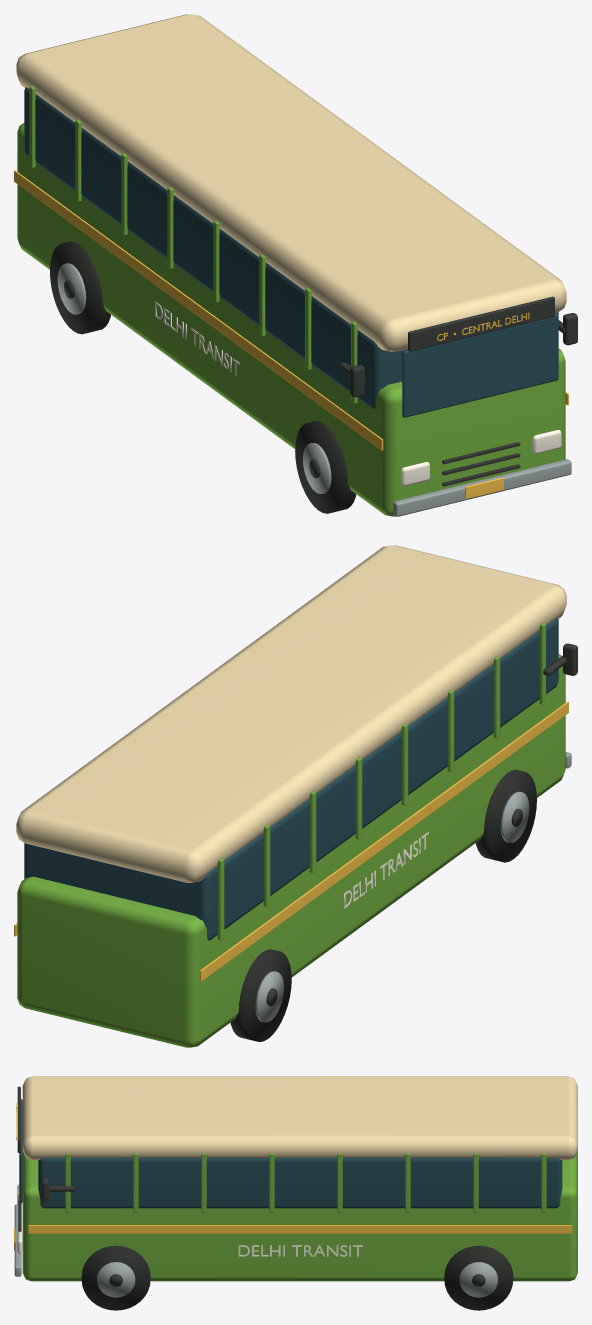
The model's file is delhi-bus.glb.
The picture shows the model from 3 angles, top to bottom: view 1: azimuth 30°, elevation 25°; view 2: azimuth 150°, elevation 25°; view 3: azimuth 270°, elevation 25°; orthographic projection. The views are drawn at different scales.
Parts seen in each view (by area): view 1: delhi-bus / Shop canvas, delhi-bus / DTC leaf green, delhi-bus / Deep indigo glass, delhi-bus / Rubber, delhi-bus / Saffron, delhi-bus / Ink, delhi-bus / Brushed metal, delhi-bus / Chalk edges; view 2: delhi-bus / Shop canvas, delhi-bus / DTC leaf green, delhi-bus / Deep indigo glass, delhi-bus / Rubber, delhi-bus / Saffron, delhi-bus / Brushed metal, delhi-bus / Ink, delhi-bus / Chalk edges; view 3: delhi-bus / Shop canvas, delhi-bus / DTC leaf green, delhi-bus / Deep indigo glass, delhi-bus / Rubber, delhi-bus / Saffron, delhi-bus / Brushed metal, delhi-bus / Ink, delhi-bus / Chalk edges.
Boxes of the visible parts, x1,y1,x2,y2 form: delhi-bus / Shop canvas: (16,14,566,351); delhi-bus / DTC leaf green: (17,86,565,516); delhi-bus / Deep indigo glass: (24,87,558,417); delhi-bus / Rubber: (50,241,356,513); delhi-bus / Saffron: (14,170,568,499); delhi-bus / Ink: (64,280,577,486); delhi-bus / Brushed metal: (57,263,571,516); delhi-bus / Chalk edges: (155,301,561,486); delhi-bus / Shop canvas: (16,545,566,882); delhi-bus / DTC leaf green: (17,622,565,1047); delhi-bus / Deep indigo glass: (24,618,558,940); delhi-bus / Rubber: (230,769,536,1041); delhi-bus / Saffron: (14,701,568,981); delhi-bus / Brushed metal: (255,752,571,1022); delhi-bus / Ink: (266,643,577,1006); delhi-bus / Chalk edges: (344,832,428,908); delhi-bus / Shop canvas: (22,1076,577,1159); delhi-bus / DTC leaf green: (22,1151,577,1281); delhi-bus / Deep indigo glass: (19,1099,562,1208); delhi-bus / Rubber: (81,1245,513,1310); delhi-bus / Saffron: (14,1102,572,1250); delhi-bus / Brushed metal: (14,1204,497,1297); delhi-bus / Ink: (17,1086,485,1286); delhi-bus / Chalk edges: (17,1184,362,1256).
Bounding box in the file's own units: 3.4 × 3.3 × 9.95.
